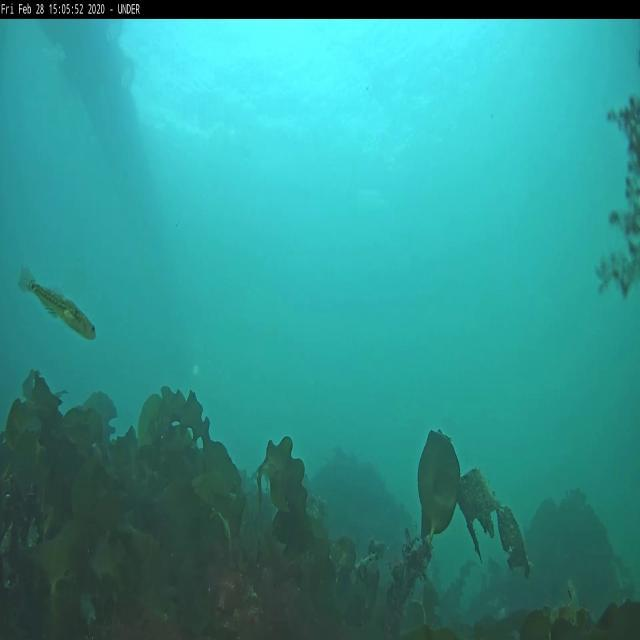fish: (18, 268, 96, 340)
